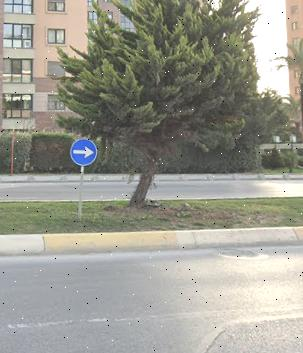turnright: (71, 139, 98, 166)
